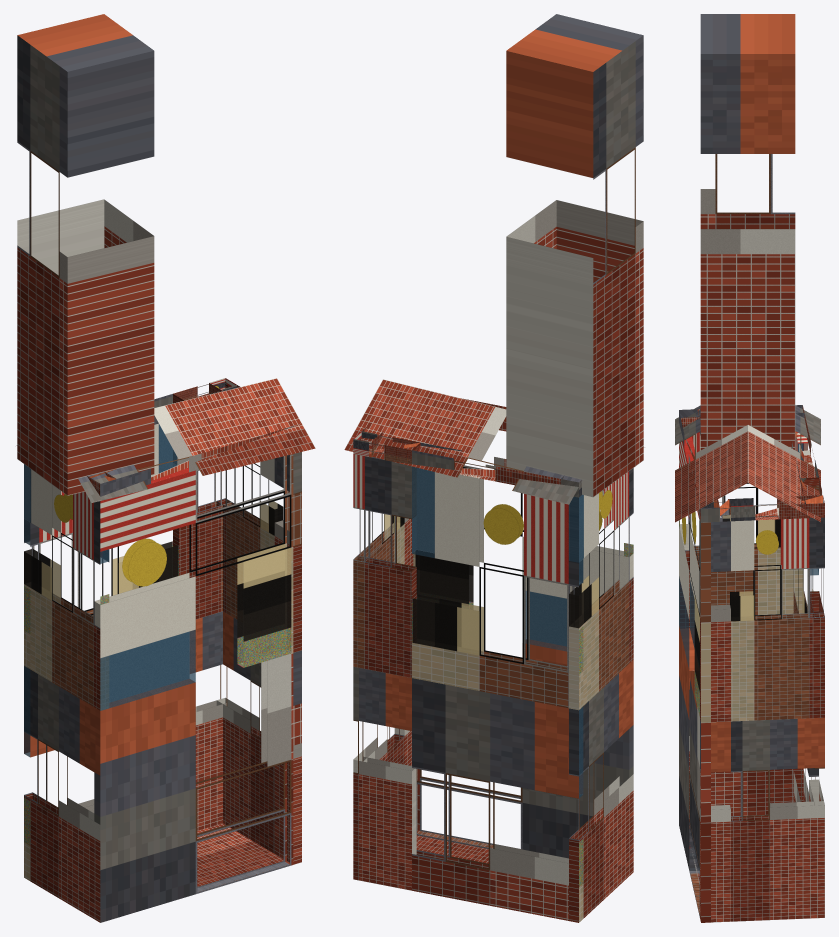
3 renders of one model, left to right at view 1: azimuth 30°, elevation 25°; view 2: azimuth 150°, elevation 25°; view 3: azimuth 270°, elevation 25°, orthographic. The views are drawn at different scales.
Parts seen in each view (by area): view 1: 238528920__chimney_0_xb, 238528920__wall_0_xb, 238528920__wall_5_xb, 238528920__wall_2_xb, 238528920__wall_0_xf, 238528920_roof_-1_xb, 238528920__wall_3_xb, 238528920__wall_4_xb, 238528920__wall_1_xb, 238528920__base, 238528920__wall_4_xf, 238528920__wall_5_xf (+1 smaller); view 2: 238528920__chimney_0_xb, 238528920__wall_4_xb, 238528920__wall_3_xb, 238528920__wall_5_xb, 238528920__wall_0_xb, 238528920_roof_1_xb, 238528920__wall_4_xf, 238528920__wall_0_xf, 238528920__wall_2_xb, 238528920__cornice_4, 238528920__wall_5_xf, 238528920__base (+2 smaller); view 3: 238528920__chimney_0_xb, 238528920__wall_2_xb, 238528920__wall_0_xb, 238528920__wall_5_xb, 238528920__wall_1_xb, 238528920_roof_-1_xb, 238528920_roof_1_xb, 238528920__cornice_2, 238528920__wall_0_xf, 238528920__wall_4_xb, 238528920__cornice_0, 238528920__wall_2_xf (+2 smaller).
Boxes of the visible parts, left/top/right/bottom form: 238528920__chimney_0_xb: left=17, top=14, right=154, bottom=495; 238528920__wall_0_xb: left=94, top=454, right=301, bottom=922; 238528920__wall_5_xb: left=24, top=469, right=109, bottom=922; 238528920__wall_2_xb: left=216, top=458, right=283, bottom=853; 238528920__wall_0_xf: left=100, top=538, right=290, bottom=710; 238528920_roof_-1_xb: left=78, top=378, right=315, bottom=502; 238528920__wall_3_xb: left=173, top=450, right=231, bottom=830; 238528920__wall_4_xb: left=24, top=423, right=178, bottom=880; 238528920__wall_1_xb: left=274, top=452, right=301, bottom=864; 238528920__base: left=197, top=823, right=286, bottom=891; 238528920__wall_4_xf: left=24, top=425, right=178, bottom=844; 238528920__wall_5_xf: left=24, top=469, right=108, bottom=603; 238528920__chimney_0_xb: left=506, top=14, right=643, bottom=497; 238528920__wall_4_xb: left=412, top=466, right=583, bottom=922; 238528920__wall_3_xb: left=353, top=454, right=416, bottom=890; 238528920__wall_5_xb: left=569, top=468, right=633, bottom=922; 238528920__wall_0_xb: left=413, top=465, right=633, bottom=858; 238528920_roof_1_xb: left=344, top=379, right=582, bottom=504; 238528920__wall_4_xf: left=412, top=467, right=582, bottom=886; 238528920__wall_0_xf: left=416, top=555, right=566, bottom=650; 238528920__wall_2_xb: left=353, top=509, right=404, bottom=772; 238528920__cornice_4: left=412, top=442, right=581, bottom=496; 238528920__wall_5_xf: left=569, top=495, right=632, bottom=627; 238528920__base: left=416, top=830, right=493, bottom=863; 238528920__chimney_0_xb: left=700, top=14, right=795, bottom=449; 238528920__wall_2_xb: left=730, top=517, right=824, bottom=921; 238528920__wall_0_xb: left=679, top=436, right=710, bottom=922; 238528920__wall_5_xb: left=679, top=432, right=803, bottom=828; 238528920__wall_1_xb: left=700, top=517, right=730, bottom=922; 238528920_roof_-1_xb: left=675, top=405, right=747, bottom=522; 238528920_roof_1_xb: left=748, top=405, right=820, bottom=522; 238528920__cornice_2: left=729, top=495, right=824, bottom=521; 238528920__wall_0_xf: left=679, top=578, right=699, bottom=714; 238528920__wall_4_xb: left=793, top=431, right=818, bottom=802; 238528920__cornice_0: left=679, top=409, right=719, bottom=522; 238528920__wall_2_xf: left=730, top=591, right=753, bottom=620.
Size of the model in its own units: 0.4054 by 1.4 by 0.2374.
Materials: 1 (1 with a texture image).
